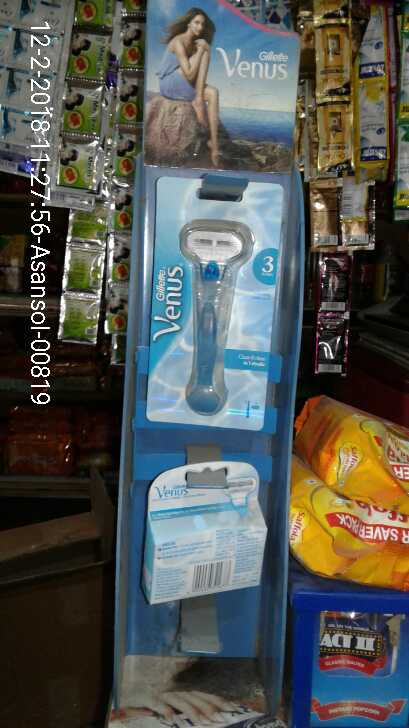venus: (152, 172, 270, 431)
